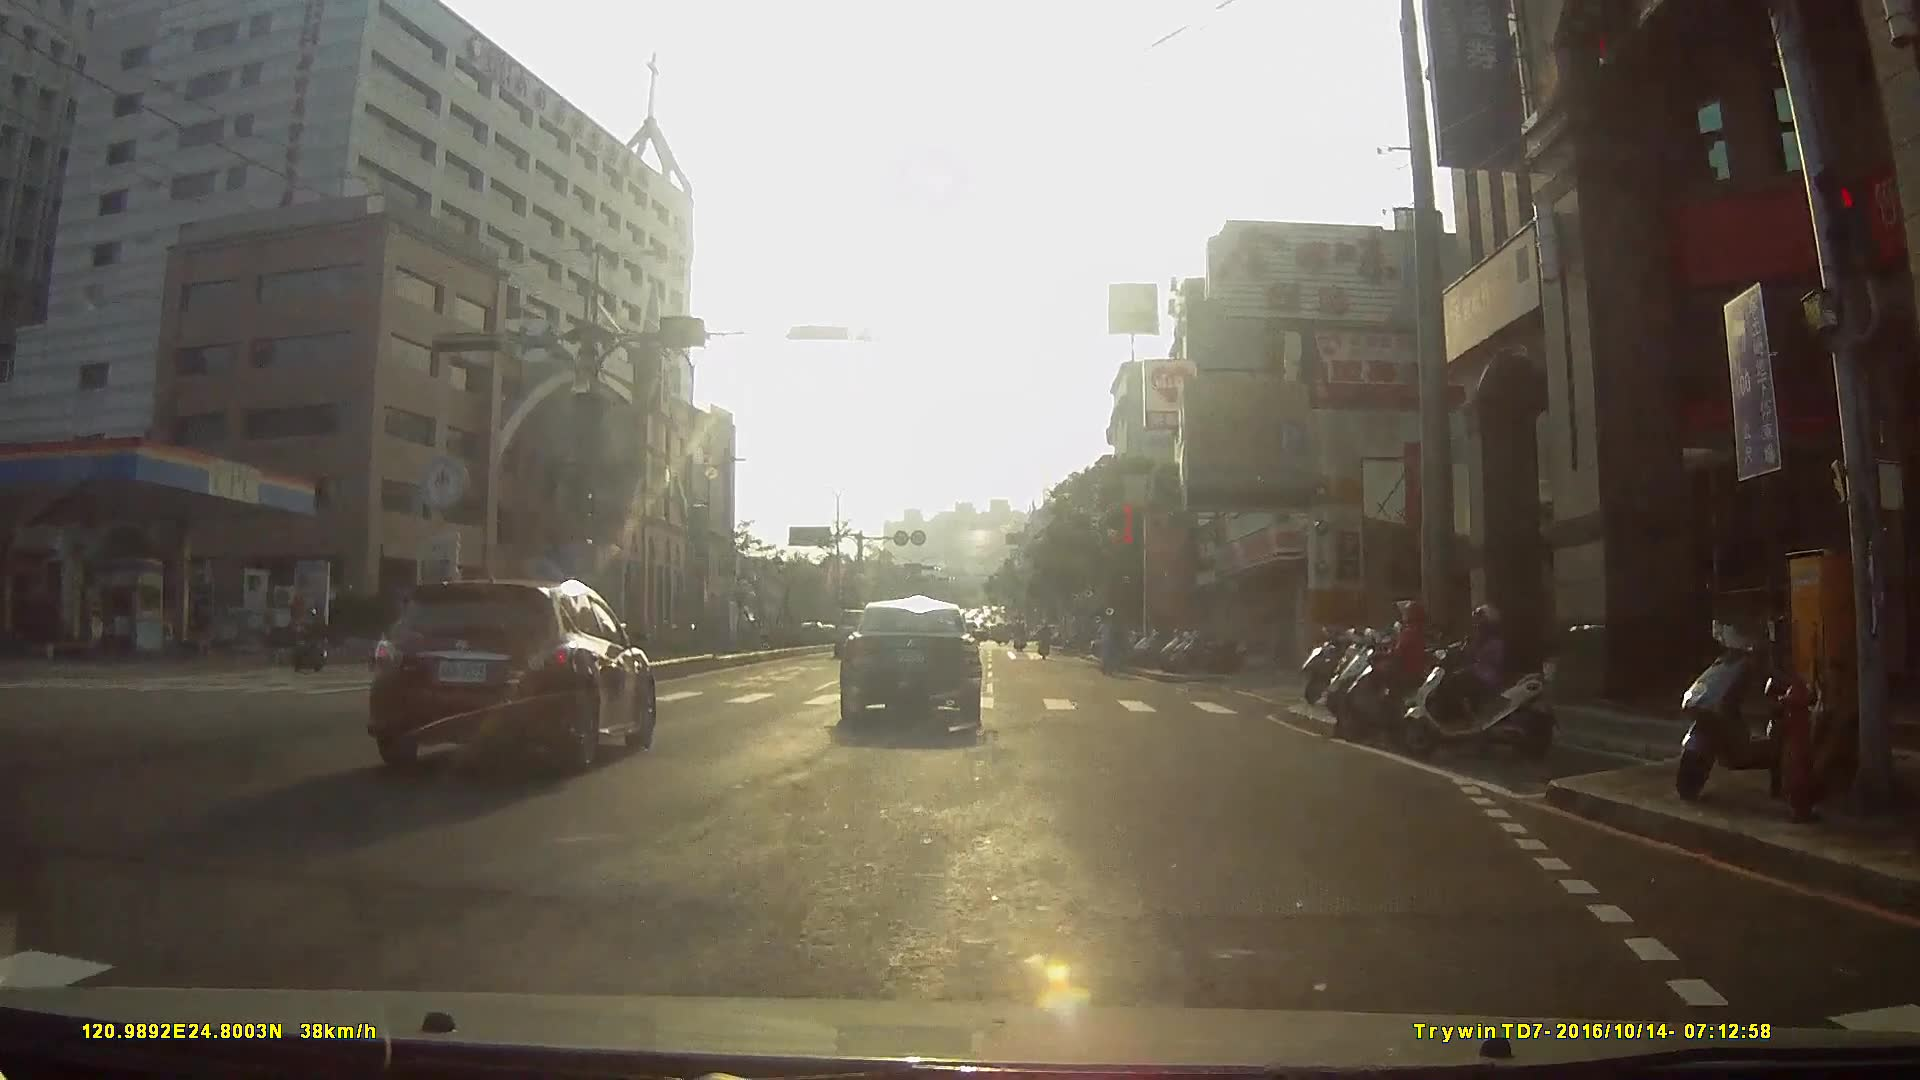rider: (1393, 598, 1562, 767), (1331, 599, 1464, 744), (291, 606, 335, 674), (1096, 612, 1123, 678)
vehicle: (369, 581, 666, 791), (845, 608, 1001, 745), (342, 598, 525, 696), (763, 607, 822, 662)
